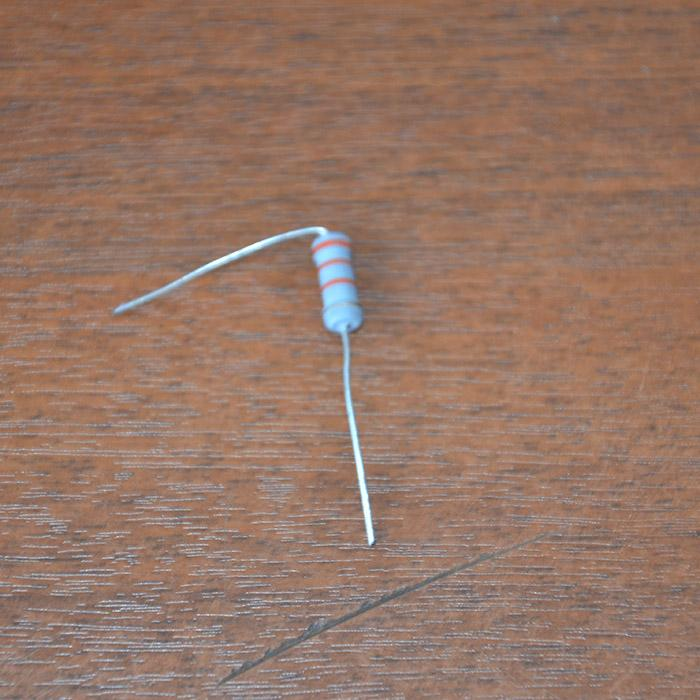resistor: (310, 230, 362, 334)
